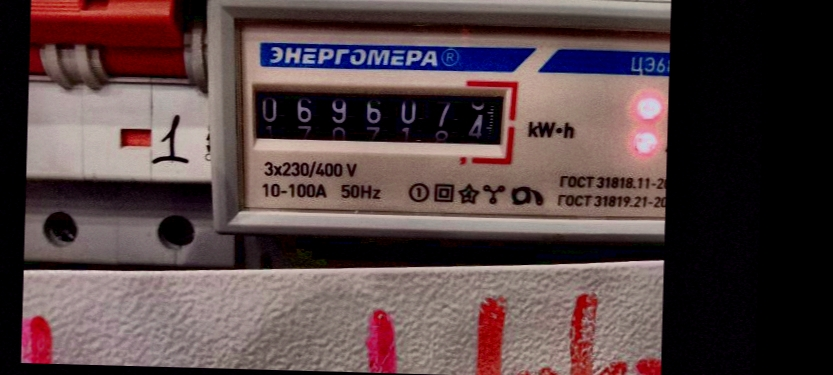0: (397, 96, 416, 127), (258, 95, 276, 124)
4: (465, 113, 482, 142)
6: (362, 97, 381, 127), (293, 95, 312, 124)
7: (433, 99, 450, 130)
9: (328, 97, 345, 126)
screen: (235, 68, 522, 165)
